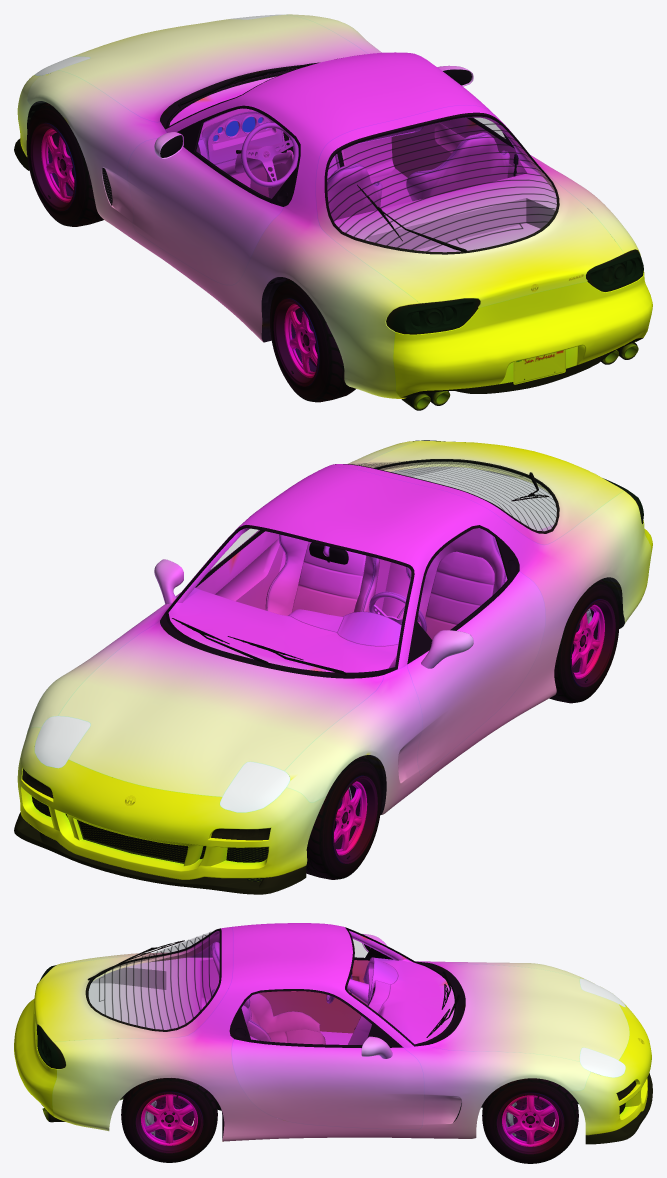
3 views of the same model, one above another, from view 1: azimuth 30°, elevation 25°; view 2: azimuth 150°, elevation 25°; view 3: azimuth 270°, elevation 25° (orthographic). The views are drawn at different scales.
Visible parts, largest first — view 1: bodyshell, windscreen_r, bumper_r, boot, misc_k, misc_c, door_dside_f, wheel_lr, misc_b, window_lf, wheel_lf, chassis (+5 smaller); view 2: bodyshell, misc_c, bumper_f, misc_k, door_dside_f, misc_b, boot, wheel_lf, window_lf, wheel_lr, windscreen_r, misc_r (+6 smaller); view 3: bodyshell, door_pside_f, misc_k, misc_c, windscreen_r, boot, wheel_rf, wheel_rr, bumper_f, window_rf, misc_b, misc_l (+5 smaller).
Boxes of the visible parts, x1,y1,x2,y2 form: bodyshell: [27, 14, 643, 398]; windscreen_r: [327, 115, 556, 251]; bumper_r: [393, 271, 652, 397]; boot: [315, 105, 623, 307]; misc_k: [169, 76, 556, 252]; misc_c: [59, 15, 367, 122]; door_dside_f: [127, 122, 296, 285]; wheel_lr: [270, 279, 355, 402]; misc_b: [327, 132, 518, 220]; window_lf: [195, 108, 297, 198]; wheel_lf: [26, 103, 103, 226]; chassis: [32, 62, 591, 342]; bodyshell: [27, 440, 651, 814]; misc_c: [58, 621, 383, 796]; bumper_f: [14, 727, 325, 894]; misc_k: [168, 466, 556, 672]; door_dside_f: [407, 537, 545, 775]; misc_b: [265, 528, 507, 639]; boot: [324, 440, 623, 544]; wheel_lf: [306, 756, 381, 879]; window_lf: [418, 528, 508, 638]; wheel_lr: [549, 580, 619, 703]; windscreen_r: [350, 460, 556, 530]; misc_r: [196, 531, 283, 610]; bodyshell: [37, 923, 590, 1141]; door_pside_f: [231, 1008, 424, 1129]; misc_k: [88, 930, 454, 1044]; misc_c: [429, 963, 629, 1061]; windscreen_r: [88, 930, 218, 1029]; boot: [34, 927, 232, 1041]; wheel_rf: [482, 1078, 578, 1163]; wheel_rr: [121, 1078, 217, 1162]; bumper_f: [568, 981, 652, 1144]; window_rf: [242, 991, 371, 1045]; misc_b: [211, 942, 325, 1044]; misc_l: [259, 960, 369, 1033].
Size of the model in its own units: 1.83 by 1.22 by 4.28.
24 materials, 17 textured.
